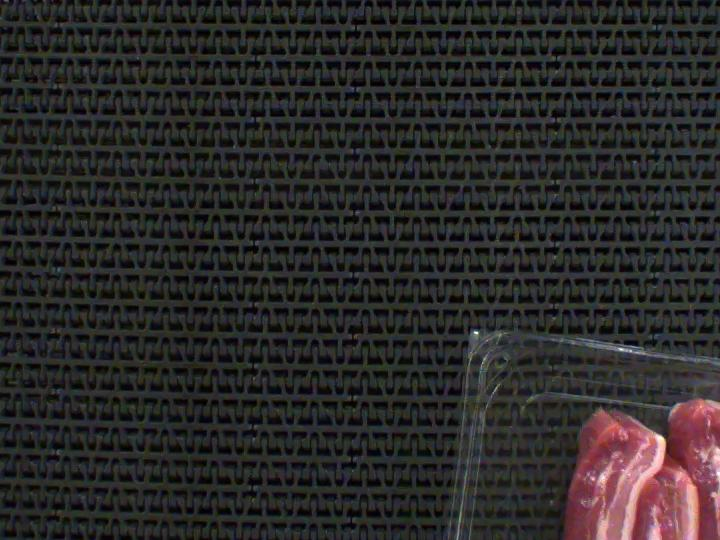packaging-error: (688, 374, 720, 415)
